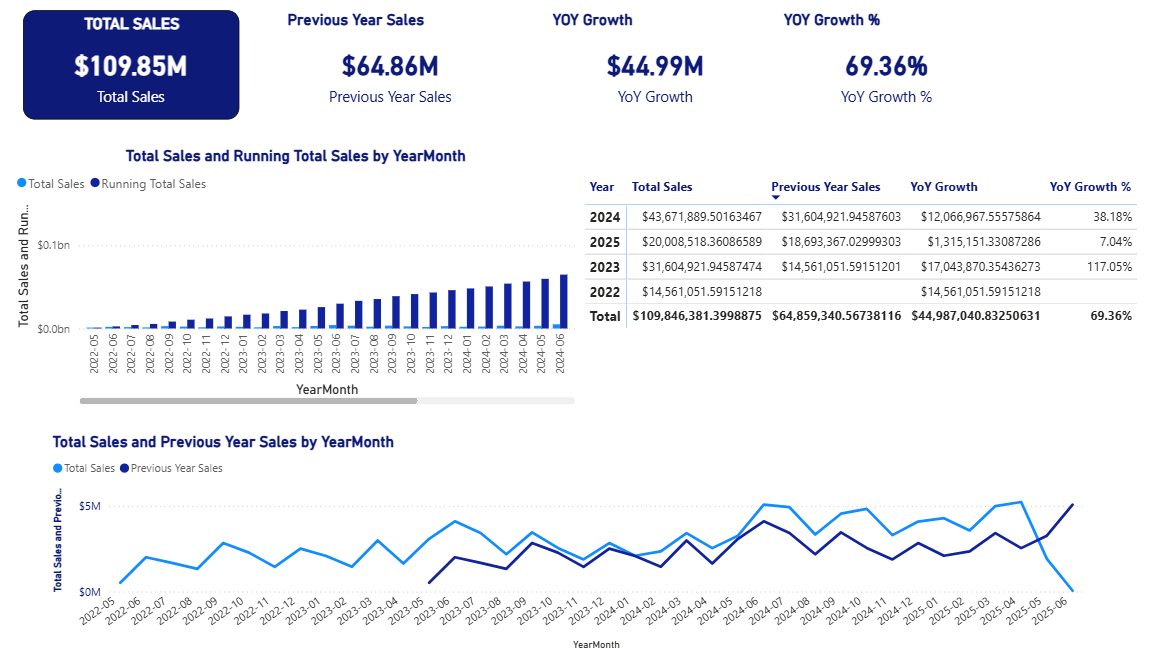

This screenshot's page, from the dashboard's own definition file:
{"tool":"powerbi","page":{"name":"Sales Trend Analysis","canvas":[1280,720],"ordinal":1},"visuals":[{"type":"lineChart","fields":{"Category":["vw_DimDate.YearMonth"],"Y":["Table.Total Sales","Table.Previous Year Sales"]},"box":[59.8,478.2,1134,242.2],"z":0},{"type":"lineClusteredColumnComboChart","fields":{"Category":["vw_DimDate.YearMonth"],"Y":["Table.Total Sales","Table.Running Total Sales"]},"box":[20.4,166.7,619.7,286.3],"z":1000},{"type":"pivotTable","fields":{"Rows":["vw_DimDate.Year"],"Values":["Table.Total Sales","Table.Previous Year Sales","Table.YoY Growth","Table.YoY Growth %"]},"box":[668.5,180.9,611.8,261.1],"z":2000},{"type":"card","title":"TOTAL SALES","fields":{"Values":["Table.Total Sales"]},"box":[33,17.3,235.9,119.5],"z":3000},{"type":"card","title":"Previous Year Sales","fields":{"Values":["Table.Previous Year Sales"]},"box":[316.1,17.3,234.4,119.5],"z":4000},{"type":"card","title":"YOY Growth","fields":{"Values":["Table.YoY Growth"]},"box":[605.6,17.3,234.4,119.5],"z":5000},{"type":"card","title":"YOY Growth %","fields":{"Values":["Table.YoY Growth %"]},"box":[857.2,17.3,234.4,119.5],"z":6000}]}

Visuals, with their boxes in screenshot pixels (x1, y1, x2, y2), scaled from the page's 1280x720 canvas onto the 1150x648 screenshot:
lineChart - vw_DimDate.YearMonth x Table.Total Sales: {"left": 54, "top": 430, "right": 1073, "bottom": 647}
lineClusteredColumnComboChart - vw_DimDate.YearMonth x Table.Total Sales: {"left": 18, "top": 150, "right": 575, "bottom": 408}
pivotTable - vw_DimDate.Year x Table.Total Sales: {"left": 601, "top": 163, "right": 1149, "bottom": 398}
"TOTAL SALES" card: {"left": 30, "top": 16, "right": 242, "bottom": 123}
"Previous Year Sales" card: {"left": 284, "top": 16, "right": 495, "bottom": 123}
"YOY Growth" card: {"left": 544, "top": 16, "right": 755, "bottom": 123}
"YOY Growth %" card: {"left": 770, "top": 16, "right": 981, "bottom": 123}
